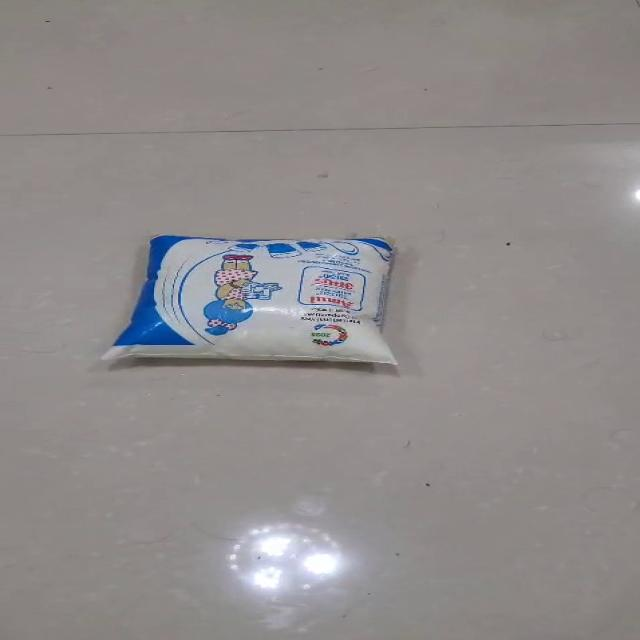plastic: (100, 233, 399, 366)
